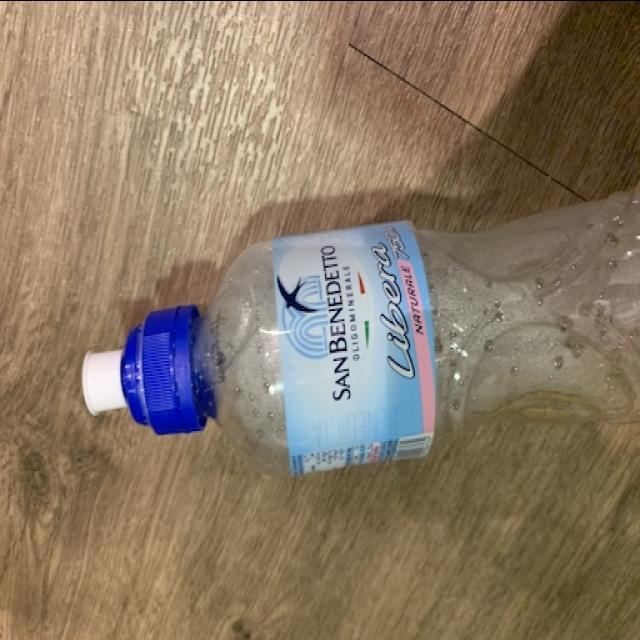litter: (77, 181, 640, 477)
